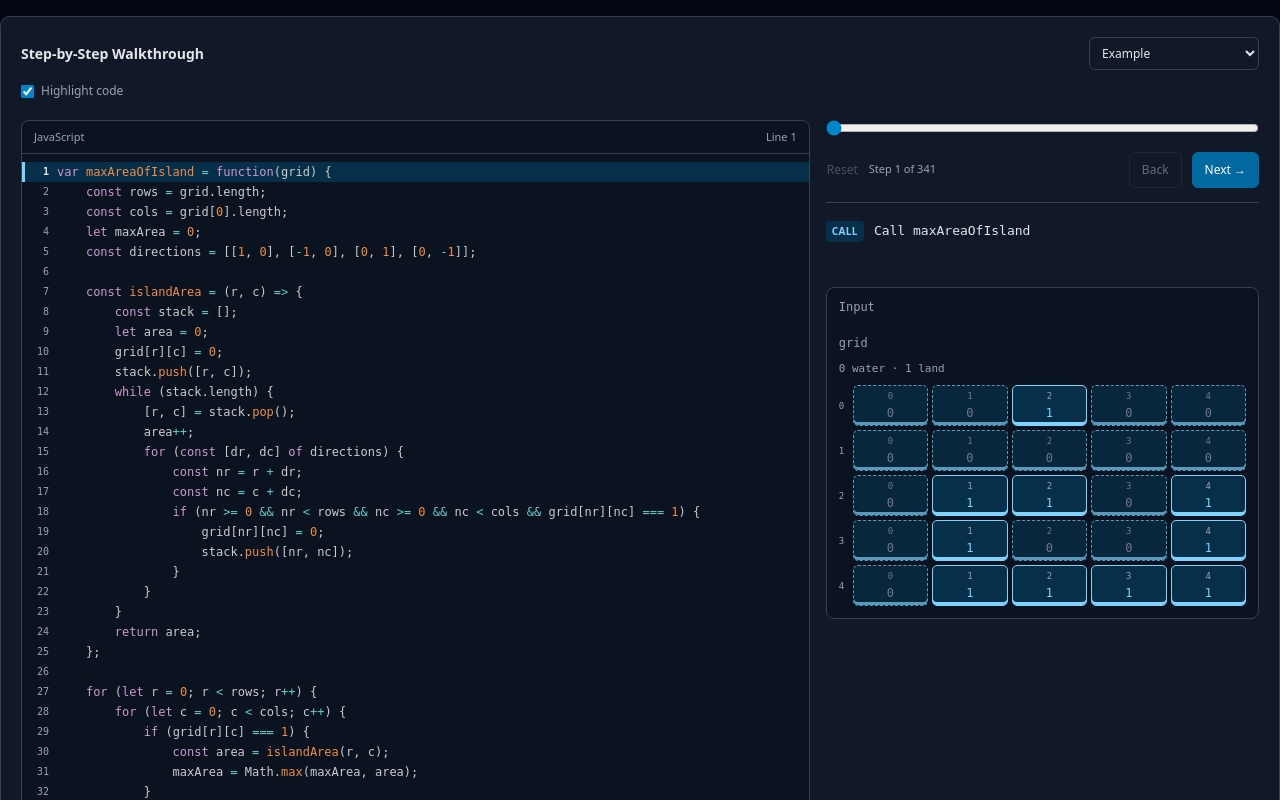
Test: keeps area and maxArea visible while processing the island, with cells in their original positions
This screenshot has width=1280, height=800.
Set the slider to "110": (969, 128) left=826, top=120, right=1259, bottom=136
(page scrolled)
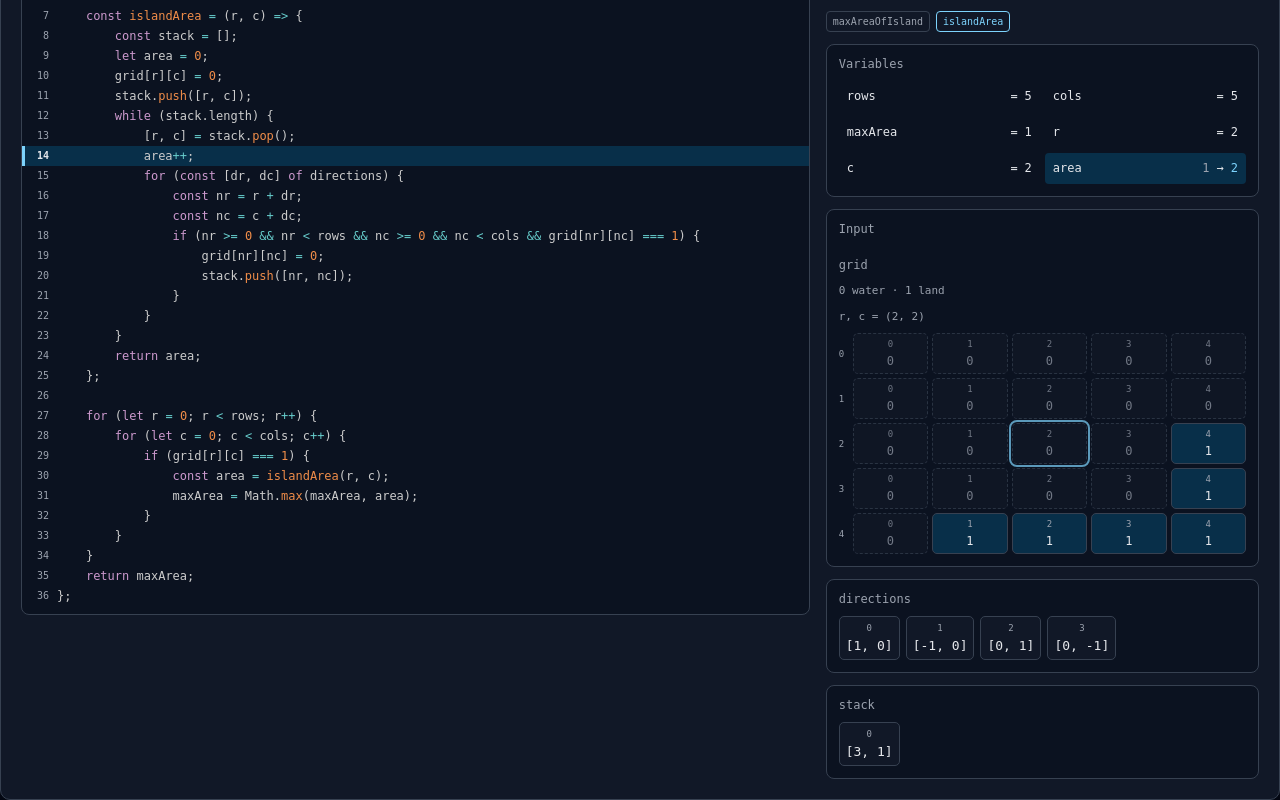
Expected: the 3rd text "2" is shown, left=1231, top=159, right=1238, bottom=178
Expected: the 1st text "1" is shown, left=1025, top=123, right=1032, bottom=142
Expected: the list "0 [3, 1]" is shown, left=839, top=722, right=900, bottom=766
